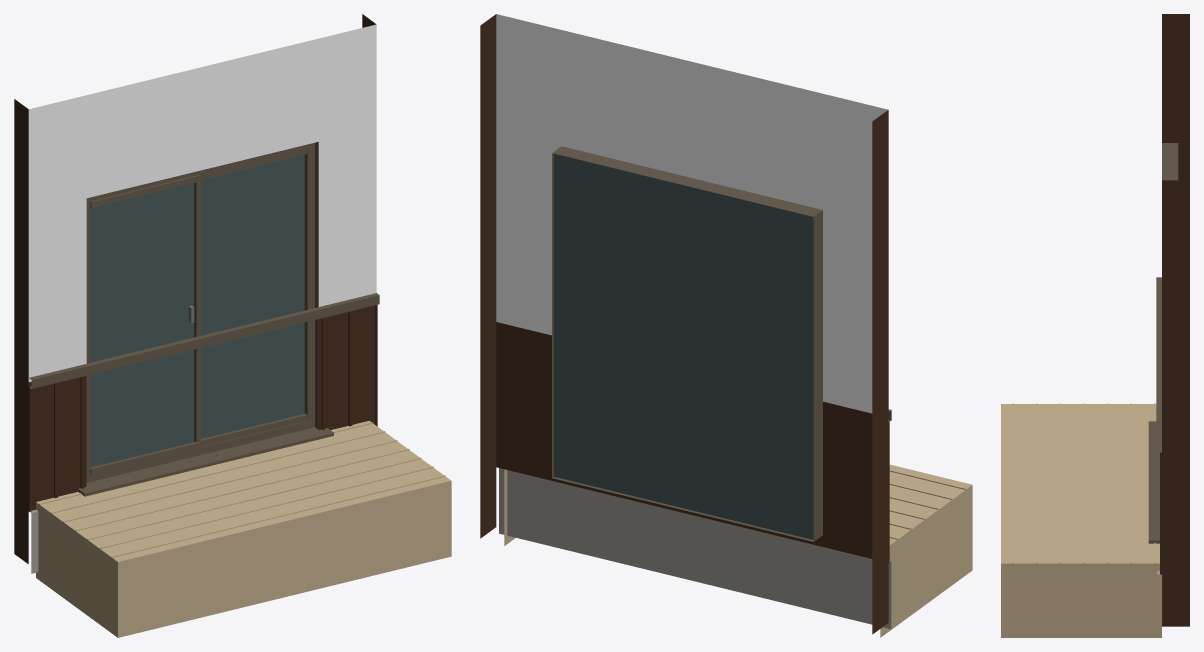
The model's file is base-stair3_close.fbx.
The picture shows the model from 3 angles, left to right: view 1: azimuth 30°, elevation 25°; view 2: azimuth 150°, elevation 25°; view 3: azimuth 270°, elevation 25°; orthographic projection. The views are drawn at different scales.
Parts seen in each view (by area): view 1: a2015/800/base-stair_close; view 2: a2015/800/base-stair_close; view 3: a2015/800/base-stair_close.
Boxes of the visible parts, box(x1,y1,x2,y2) form: a2015/800/base-stair_close: box(14, 14, 451, 637); a2015/800/base-stair_close: box(480, 14, 972, 637); a2015/800/base-stair_close: box(1001, 14, 1189, 637).
Bounding box in the file's own units: 2.4 × 3.1 × 1.15.
